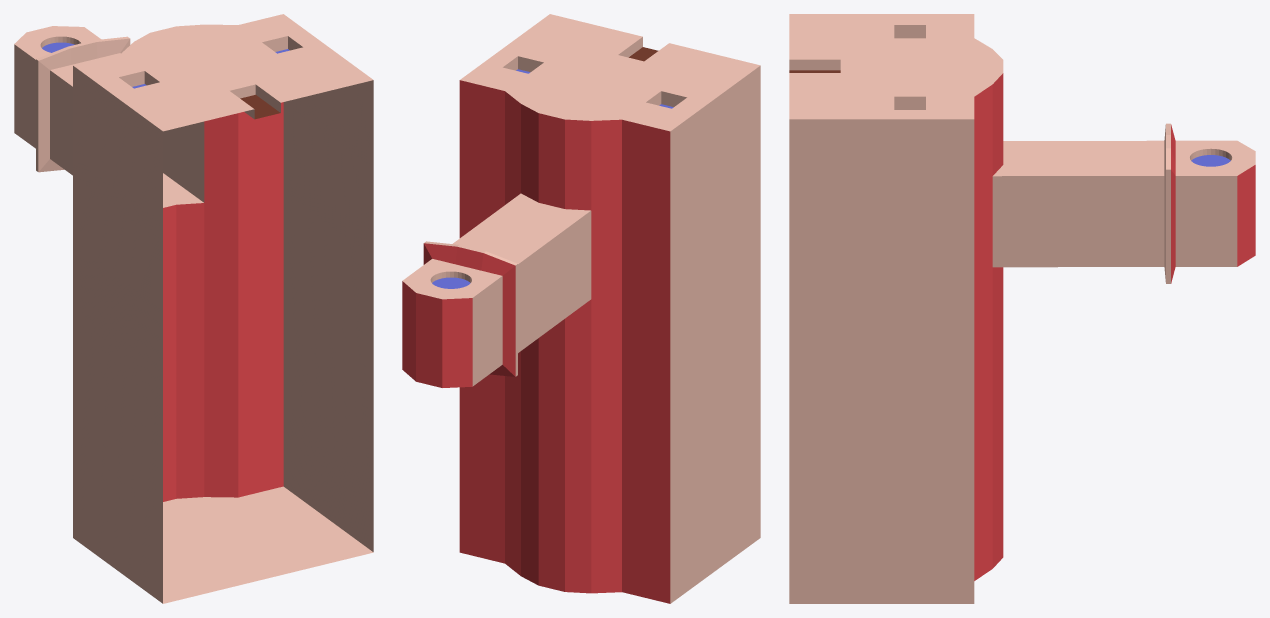
Rendered from MainHall.fbx.
3 views of the same model, side by side, from view 1: azimuth 30°, elevation 25°; view 2: azimuth 150°, elevation 25°; view 3: azimuth 270°, elevation 25° (orthographic). The views are drawn at different scales.
Visible parts, largest first — view 1: HouseWithTower; view 2: HouseWithTower; view 3: HouseWithTower.
Boxes of the visible parts, x1,y1,x2,y2 form: HouseWithTower: (14, 14, 373, 603); HouseWithTower: (402, 14, 760, 603); HouseWithTower: (789, 14, 1255, 603).
Size of the model in its own units: 269 by 578 by 504.
